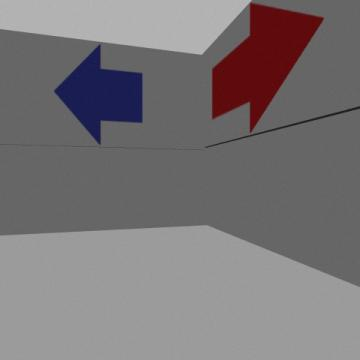blue_left: (55, 45, 142, 144)
red_right: (212, 4, 323, 132)
